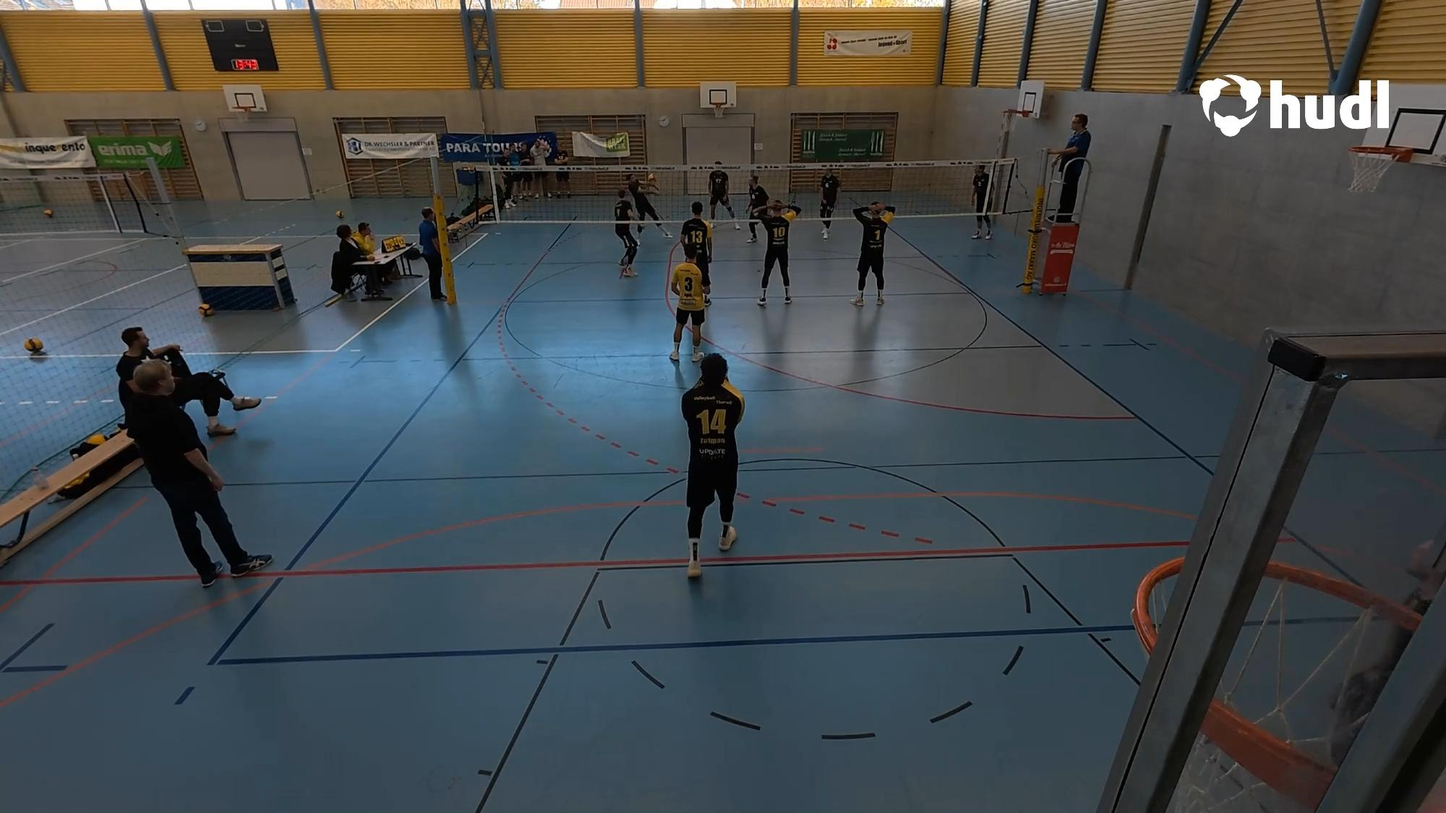Player: (679, 349, 748, 580), (666, 243, 709, 362), (756, 203, 797, 307), (850, 203, 890, 306), (676, 204, 712, 282), (615, 188, 641, 278), (970, 163, 995, 241), (816, 168, 844, 237), (742, 174, 771, 238), (706, 162, 732, 224)
Receive: (634, 172, 662, 231)
ball: (645, 170, 659, 184)
